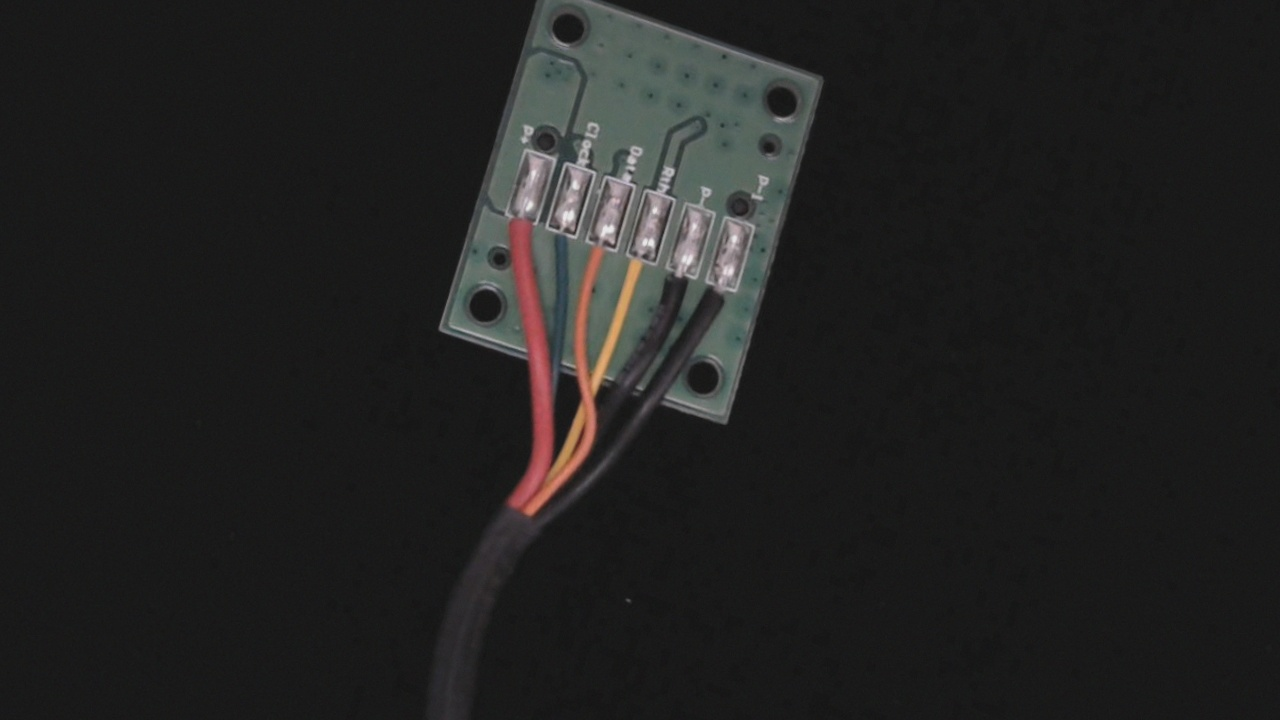Black: (649, 251, 701, 329)
Black1: (689, 267, 741, 344)
Green: (530, 204, 585, 285)
Orange: (570, 223, 623, 302)
Red: (491, 193, 543, 271)
Yellow: (610, 237, 661, 319)
